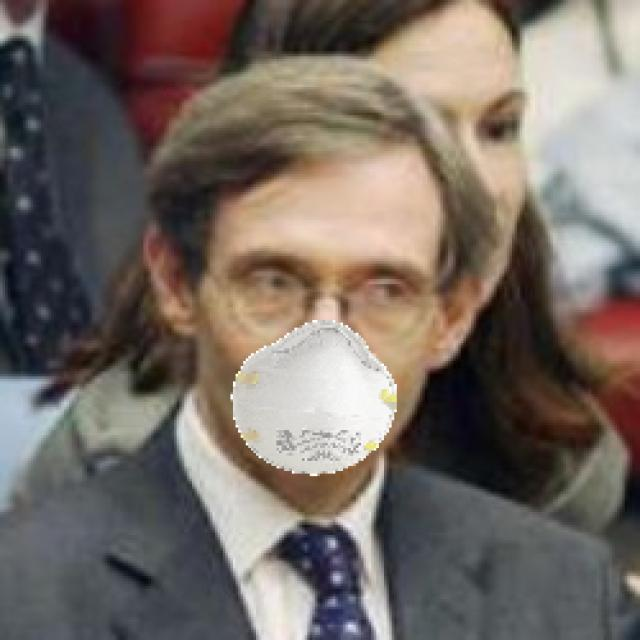mask: (223, 313, 406, 483)
